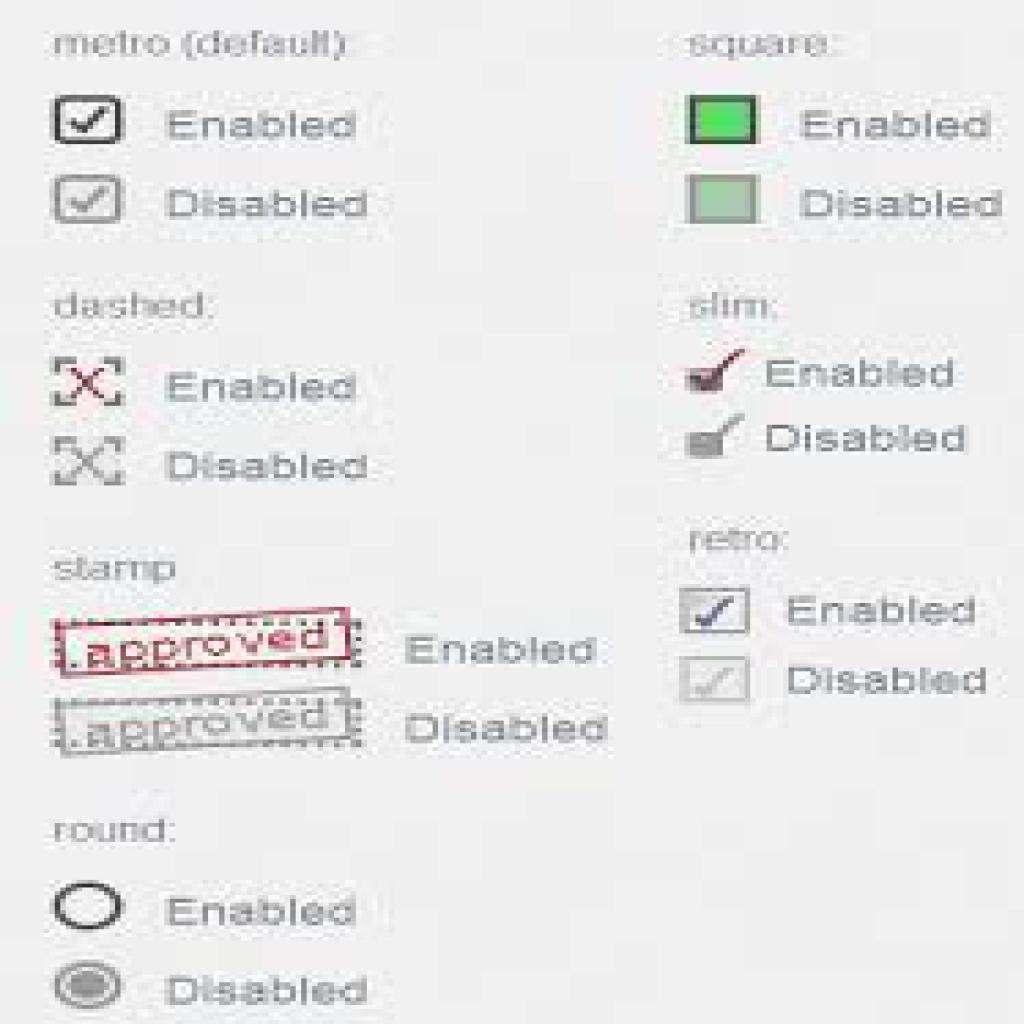checkbox: (684, 91, 771, 151), (676, 651, 756, 711), (677, 584, 757, 642), (688, 173, 766, 230), (51, 94, 129, 149), (53, 173, 126, 230)
radio: (44, 957, 122, 1021), (47, 875, 124, 939)
